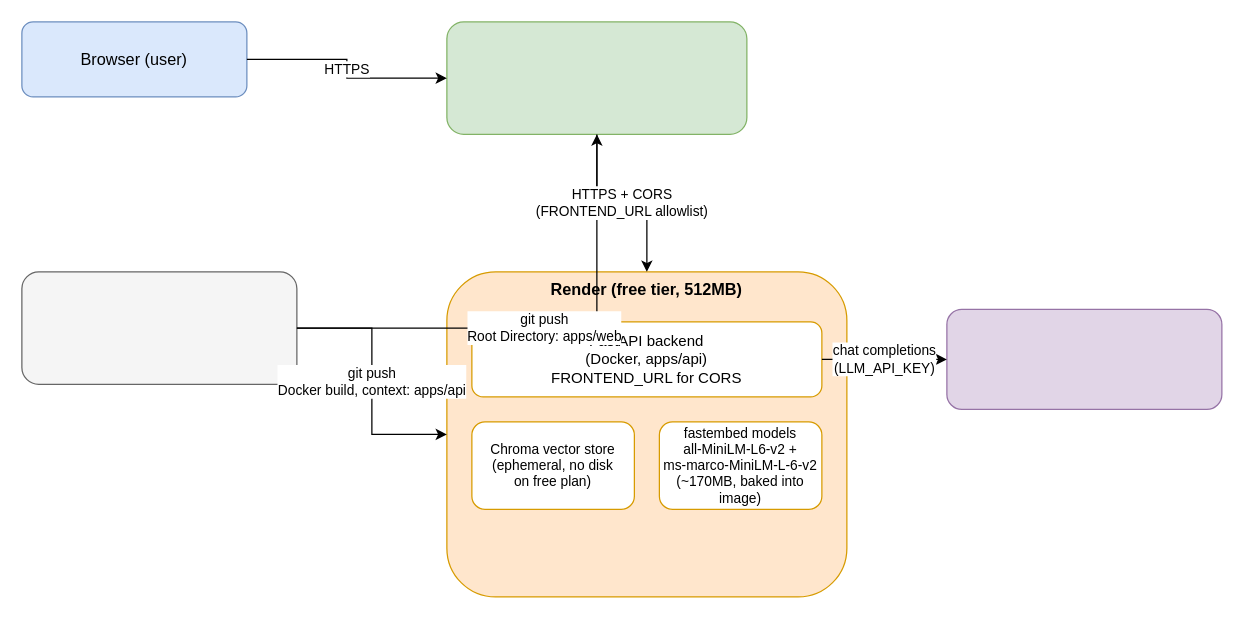
The diagram is 1244 pixels wide and 619 high, and some of its shapes have lost their labels. Here are the shapes that lost their labels. From the top down, the centre of each, then its label:
the point at 596,77: Vercel Next.js frontend (apps/web) NEXT_PUBLIC_API_BASE_URL
the point at 159,327: GitHub dev-eloper-365/ultradoc-ai (master branch)
the point at 1084,358: Groq API llama-3.3-70b-versatile (OpenAI-compatible)
